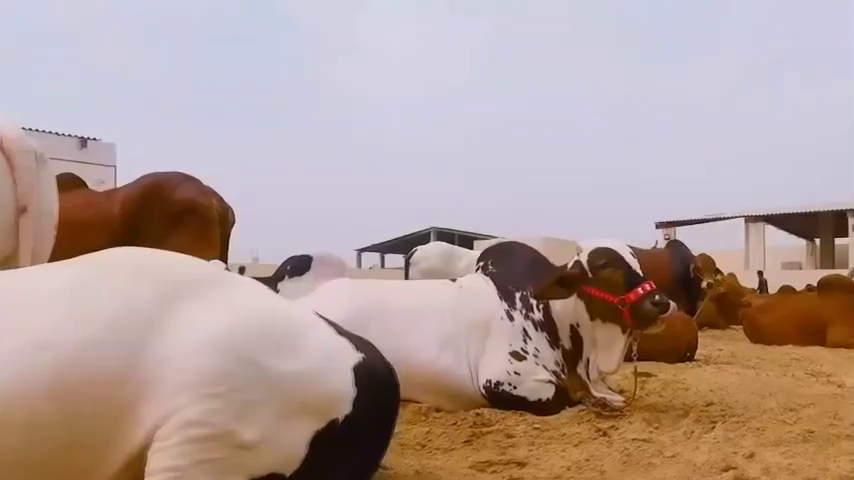bo: (2, 235, 412, 480), (298, 236, 683, 422), (53, 158, 239, 271), (478, 220, 693, 290), (718, 269, 854, 358), (1, 112, 62, 276), (633, 306, 699, 363), (679, 240, 725, 292)
